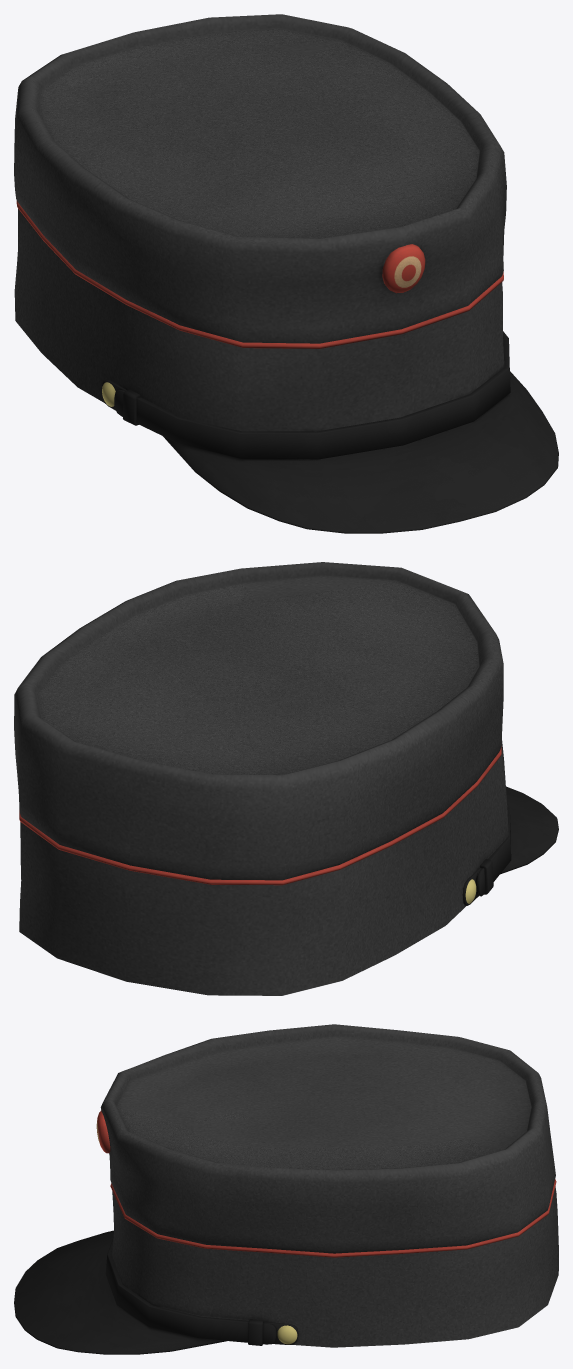
File: hat.FBX
3 views of the same model, one above another, from view 1: azimuth 30°, elevation 25°; view 2: azimuth 150°, elevation 25°; view 3: azimuth 270°, elevation 25° (orthographic). The views are drawn at different scales.
Visible parts, largest first — view 1: hat; view 2: hat; view 3: hat.
Part boxes in pixels (bbox=[...]): hat: bbox=[14, 14, 558, 533]; hat: bbox=[14, 562, 558, 995]; hat: bbox=[14, 1024, 558, 1354].
Size of the model in its own units: 15.53 by 9.94 by 23.77.
